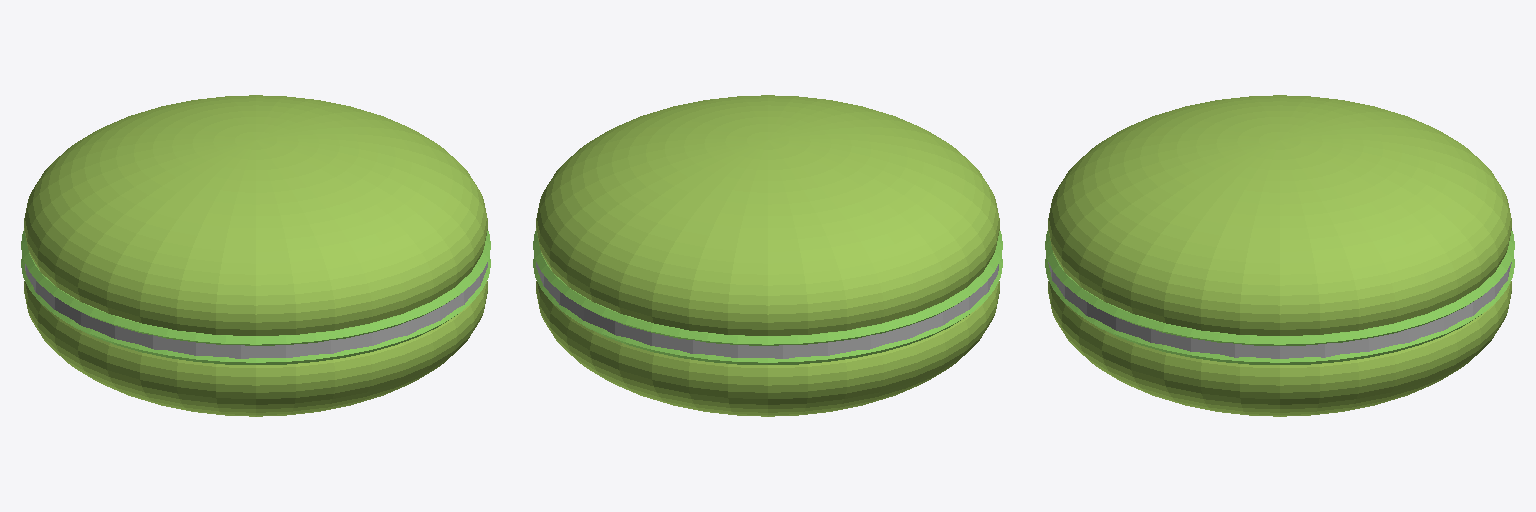
File: makalong9.obj
The picture shows the model from 3 angles: view 1: azimuth 30°, elevation 25°; view 2: azimuth 150°, elevation 25°; view 3: azimuth 270°, elevation 25°; orthographic projection.
Visible parts, largest first — view 1: Sphere_Sphere.001, Sphere.001_Sphere.002, Cylinder, Torus.001, Torus; view 2: Sphere_Sphere.001, Sphere.001_Sphere.002, Cylinder, Torus.001, Torus; view 3: Sphere_Sphere.001, Sphere.001_Sphere.002, Cylinder, Torus.001, Torus.
Boxes of the visible parts, <box> form: Sphere_Sphere.001: <box>24,95,487,335</box>; Sphere.001_Sphere.002: <box>24,281,487,416</box>; Cylinder: <box>25,262,487,358</box>; Torus.001: <box>21,231,490,345</box>; Torus: <box>21,256,490,364</box>; Sphere_Sphere.001: <box>536,95,999,335</box>; Sphere.001_Sphere.002: <box>536,281,999,416</box>; Cylinder: <box>536,262,998,358</box>; Torus.001: <box>533,231,1002,345</box>; Torus: <box>533,256,1002,364</box>; Sphere_Sphere.001: <box>1048,95,1511,335</box>; Sphere.001_Sphere.002: <box>1048,281,1511,416</box>; Cylinder: <box>1048,262,1511,358</box>; Torus.001: <box>1045,231,1514,345</box>; Torus: <box>1045,256,1514,364</box>.
Bounding box in the file's own units: 2.02 × 1.1 × 2.02.